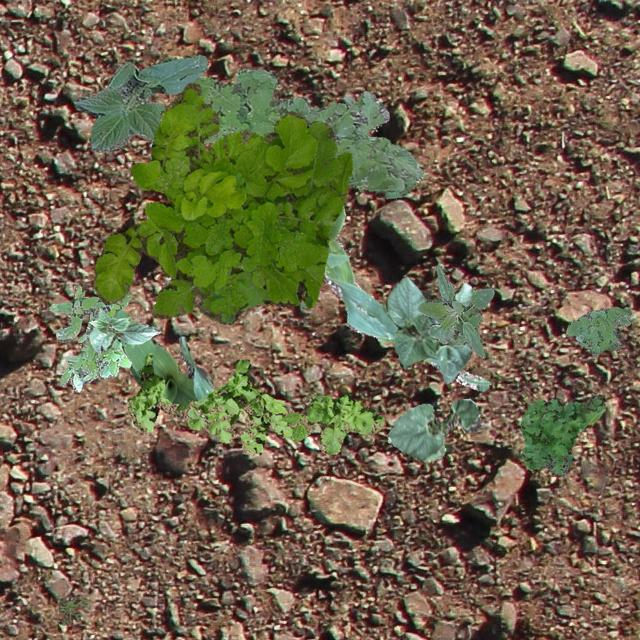crop: (322, 204, 490, 390), (74, 54, 208, 152), (111, 307, 212, 403), (417, 264, 492, 358), (386, 398, 481, 460), (431, 281, 481, 384), (384, 276, 438, 368), (88, 306, 158, 352)
weed: (92, 82, 352, 324), (190, 68, 422, 198), (126, 352, 382, 456), (49, 282, 132, 390), (520, 394, 604, 476), (564, 306, 630, 356), (56, 594, 88, 624)
